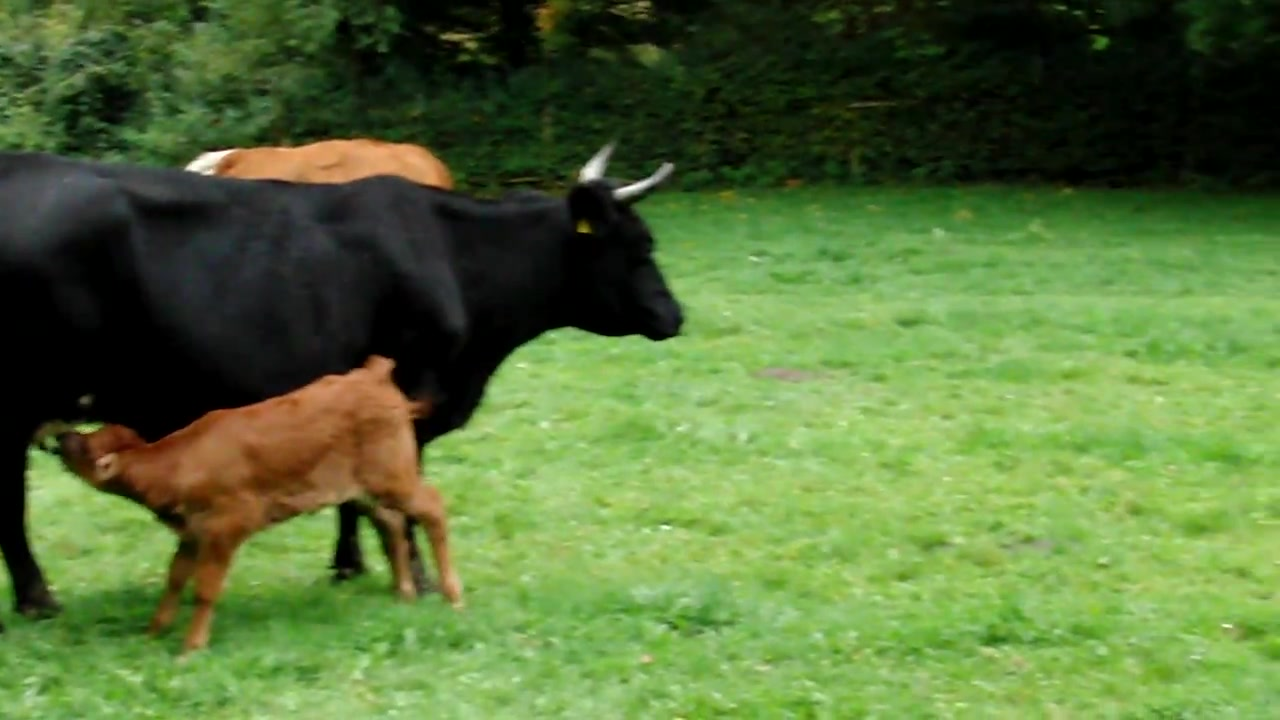cow: (1, 143, 694, 626)
